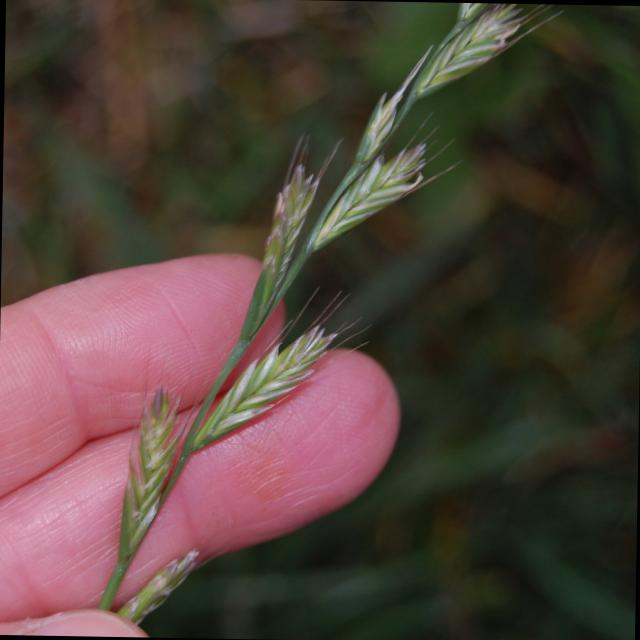Lolium: (92, 0, 564, 633)
